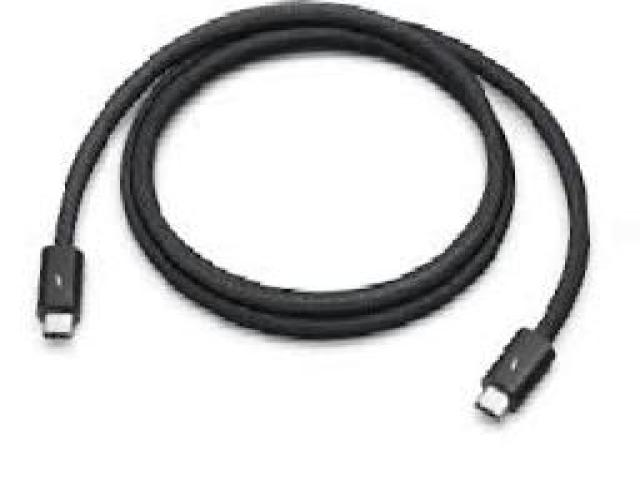wire: (41, 4, 588, 417)
